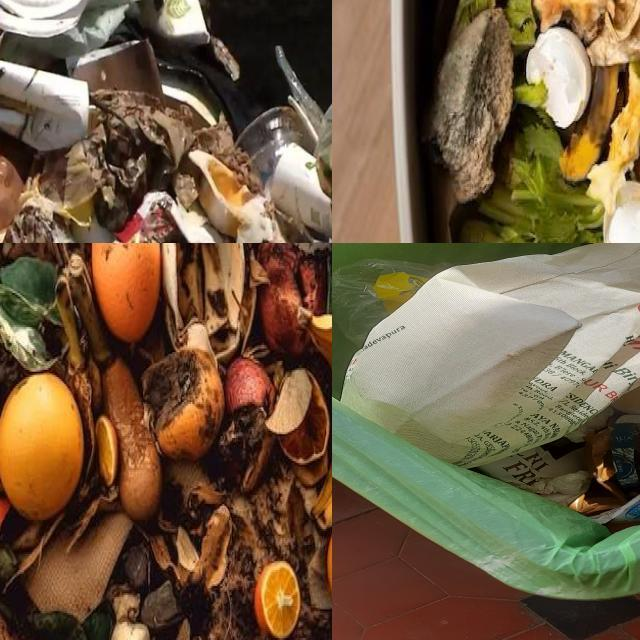Garbage: (0, 243, 332, 640), (332, 243, 640, 522), (424, 0, 640, 243)
Plastic_Bag: (332, 260, 451, 344), (611, 387, 640, 414)
Plastic_wraper: (479, 441, 589, 504), (568, 423, 640, 516)
contaminated_waste: (237, 97, 320, 188)
